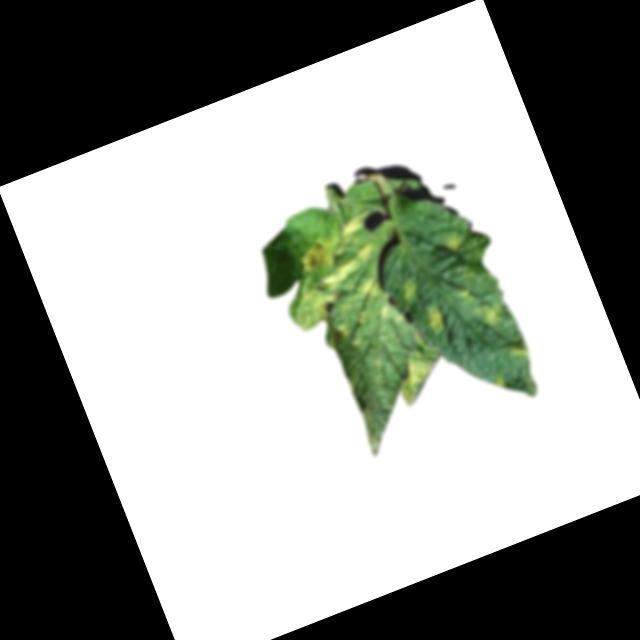Leaf_Mold: (290, 268, 357, 341), (388, 354, 445, 407), (294, 231, 344, 279), (420, 299, 453, 337), (396, 272, 425, 304), (477, 298, 505, 327), (339, 212, 368, 238), (441, 232, 468, 259), (359, 274, 383, 299)
